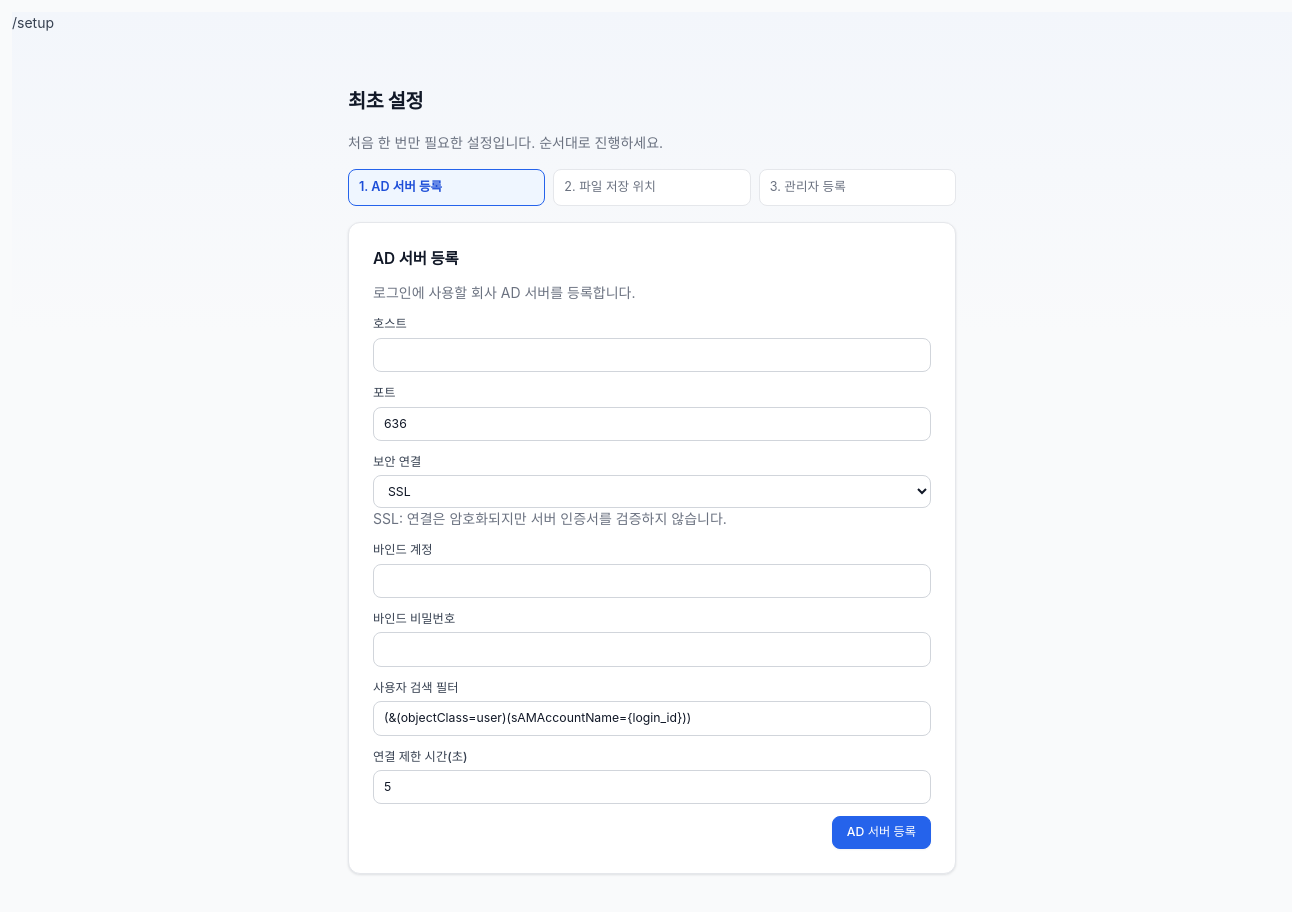
Scenario: 최초 설정에서는 바인드 비밀번호가 필수다 (AC4) › asks for the bind password before sending anything
The width and height of the screenshot is (1292, 912).
Expected: the heading "AD 서버 등록" is shown, left=373, top=249, right=458, bottom=268
In the field labelled "호스트": point(652, 355) left=373, top=338, right=931, bottom=372, type "dc1.corp.test"
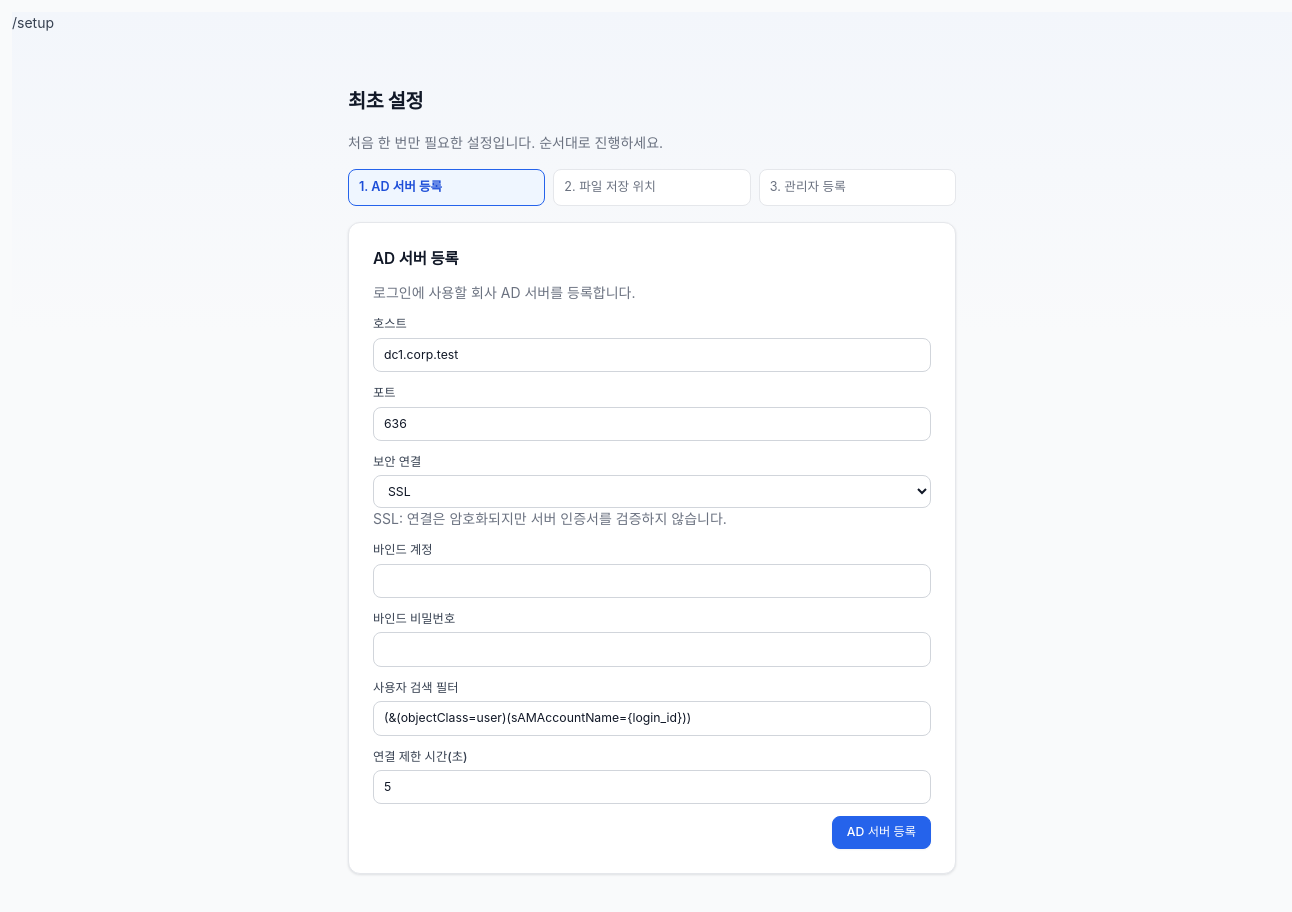
In the field labelled "바인드 계정": point(652, 581) left=373, top=564, right=931, bottom=598, type "CORP\\svc-sales"
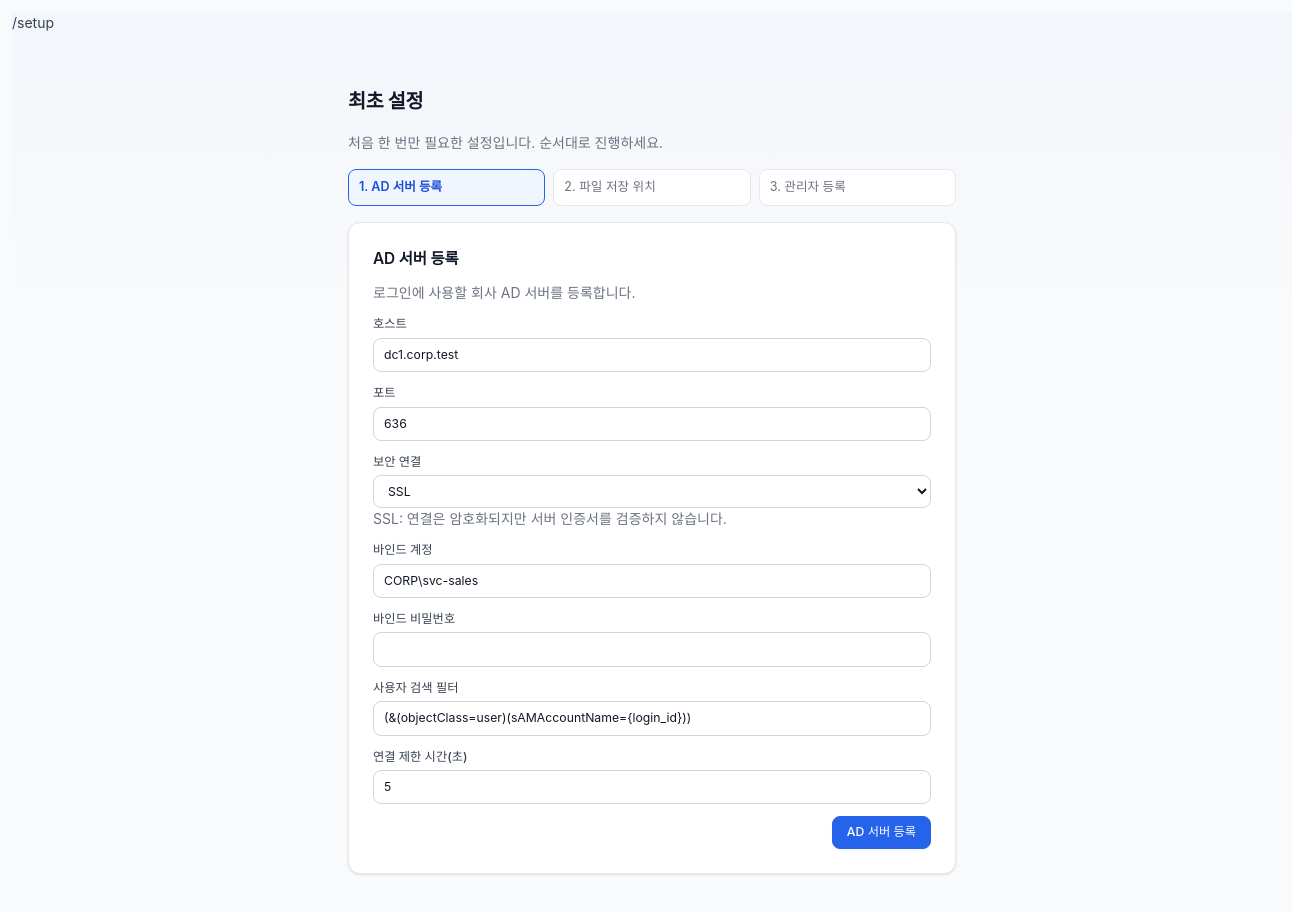
Click the button "AD 서버 등록": point(881, 832) left=832, top=816, right=931, bottom=849
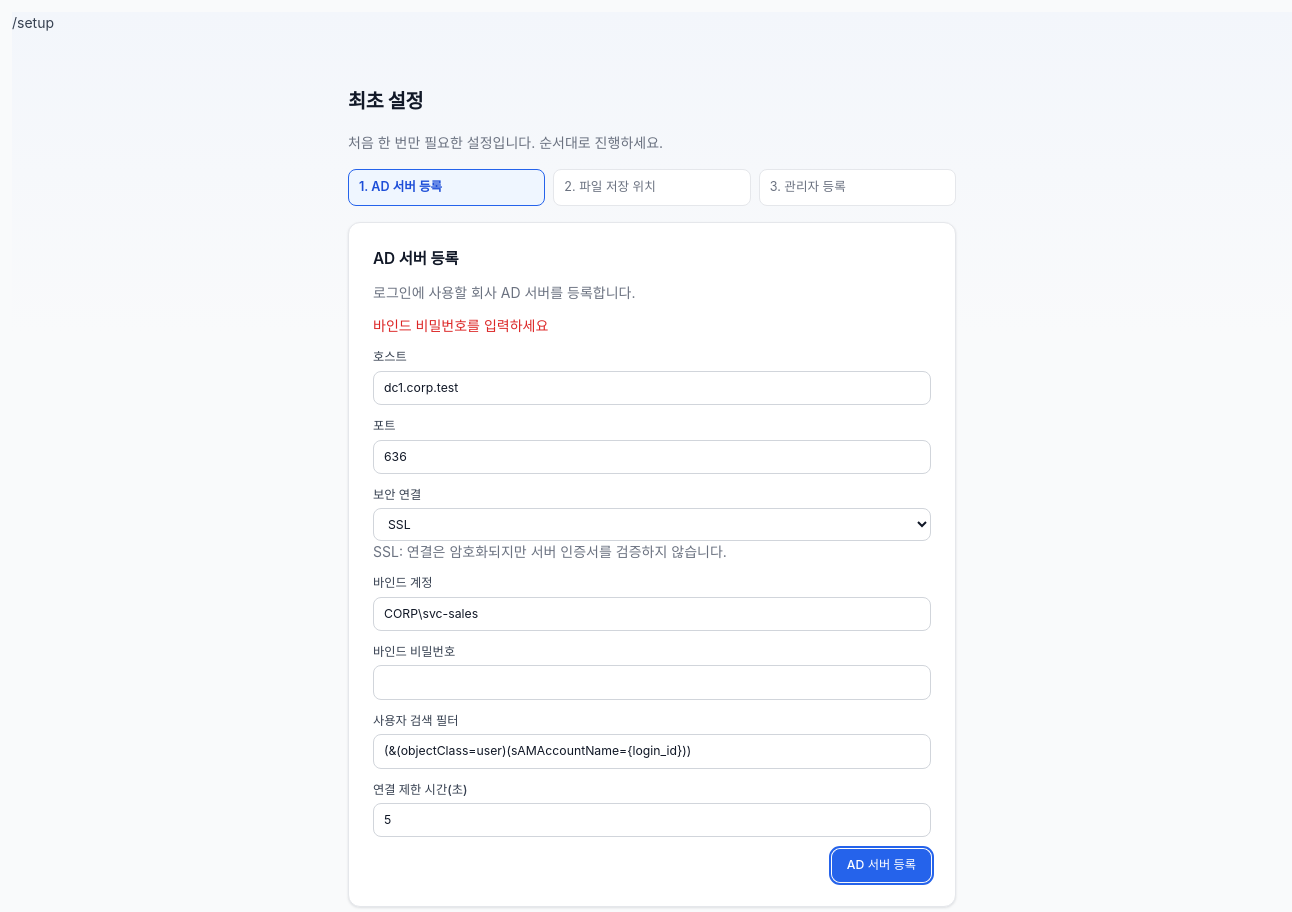
Expected: the heading "AD 서버 등록" is shown, left=373, top=249, right=458, bottom=268
Result: the message reads "바인드 비밀번호를 입력하세요" at left=373, top=317, right=548, bottom=334
